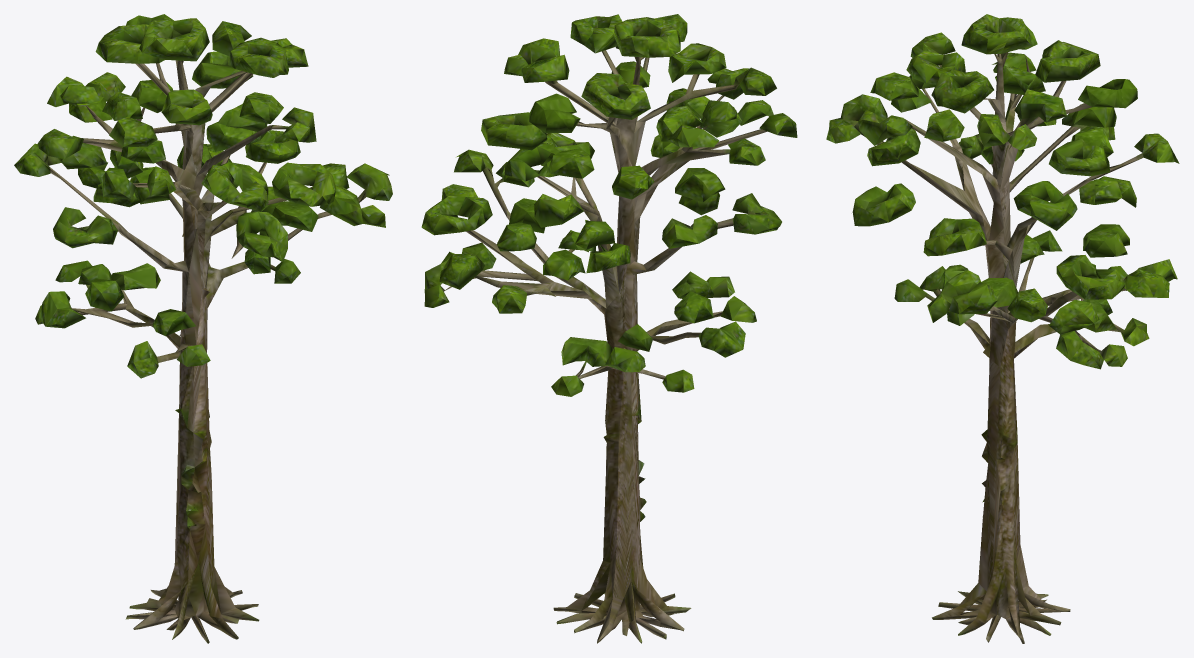
Rendered from VEG_ArbolTropical_03_LOD2.fbx.
3 views of the same model, side by side, from view 1: azimuth 30°, elevation 25°; view 2: azimuth 150°, elevation 25°; view 3: azimuth 270°, elevation 25° (orthographic). The views are drawn at different scales.
Parts seen in each view (by area): view 1: VEG_ArbolTropical_03_Mesh000; view 2: VEG_ArbolTropical_03_Mesh000; view 3: VEG_ArbolTropical_03_Mesh000.
Boxes of the visible parts, bbox=[...] form: VEG_ArbolTropical_03_Mesh000: bbox=[14, 14, 392, 643]; VEG_ArbolTropical_03_Mesh000: bbox=[421, 14, 797, 643]; VEG_ArbolTropical_03_Mesh000: bbox=[826, 14, 1179, 643].
Size of the model in its own units: 11.04 by 19 by 10.45.
